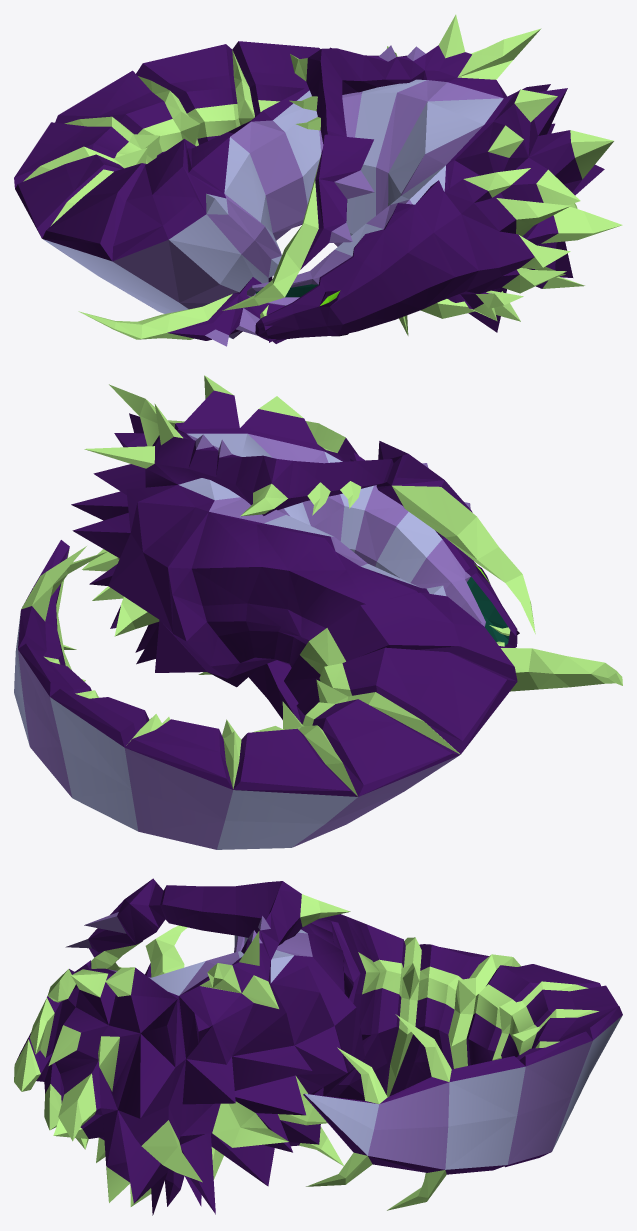
The picture shows the model from 3 angles, top to bottom: view 1: azimuth 30°, elevation 25°; view 2: azimuth 150°, elevation 25°; view 3: azimuth 270°, elevation 25°; orthographic projection. The views are drawn at different scales.
Parts seen in each view (by area): view 1: Alien_Serpent; view 2: Alien_Serpent; view 3: Alien_Serpent.
Boxes of the visible parts, bbox=[...] form: Alien_Serpent: bbox=[14, 14, 622, 346]; Alien_Serpent: bbox=[14, 375, 622, 849]; Alien_Serpent: bbox=[14, 878, 622, 1215].
Size of the model in its own units: 240 by 140 by 243.
1 material, 1 textured.
